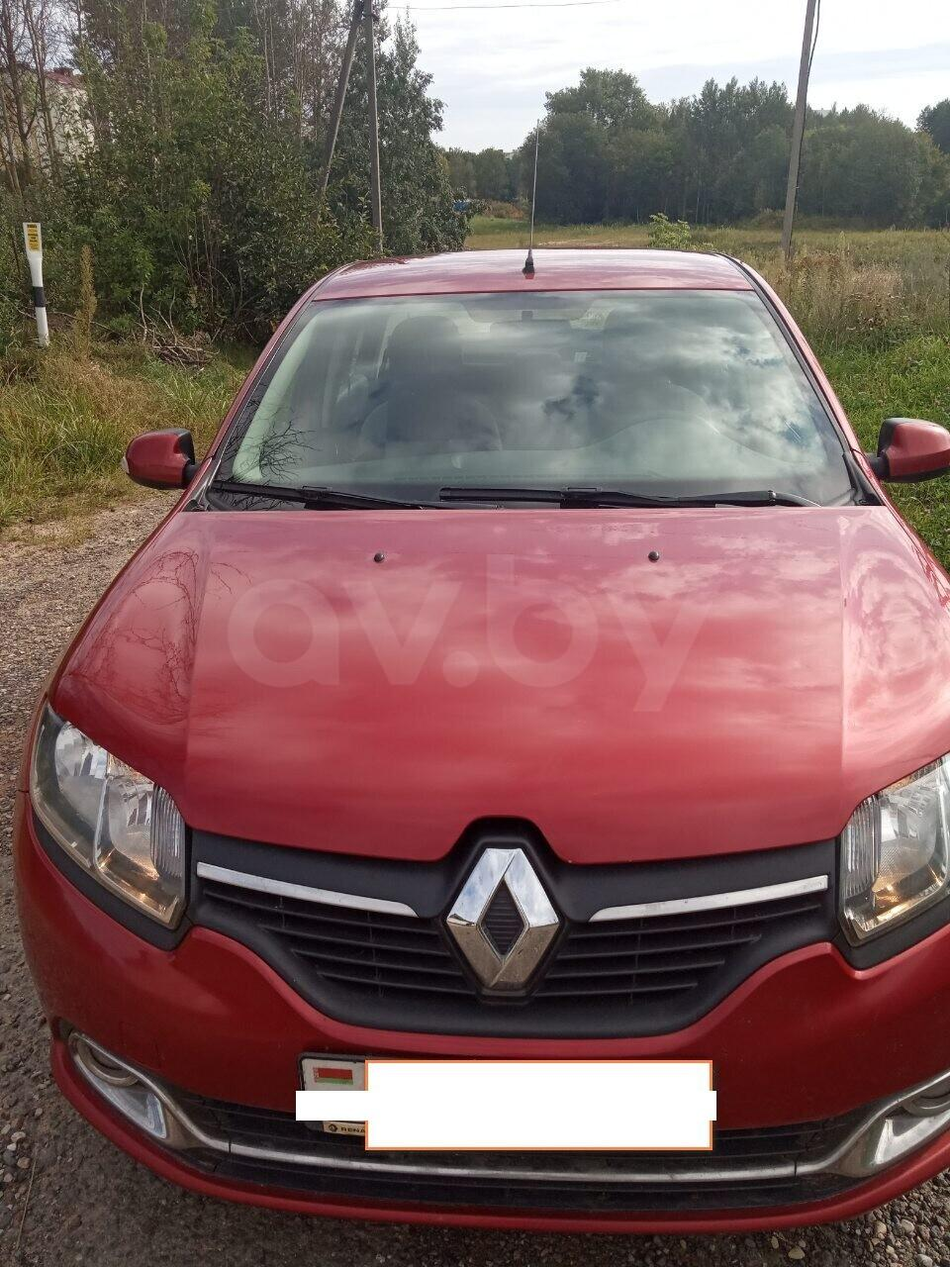Logan_2013-2018: (7, 244, 950, 1242)
